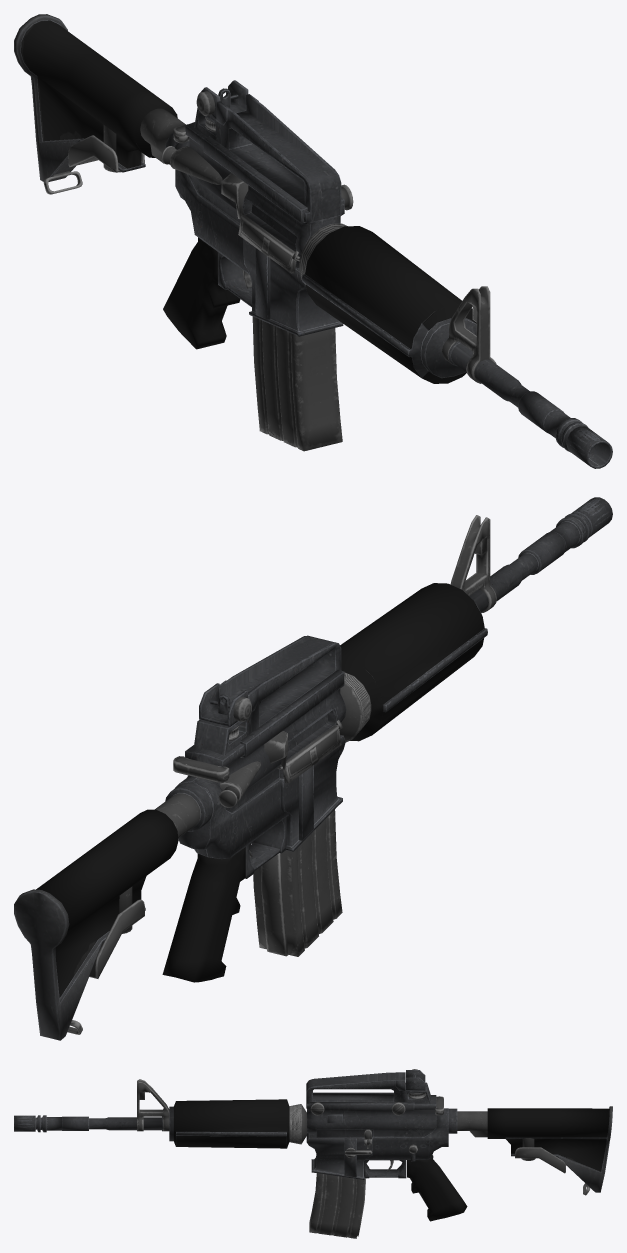
File: mp4_m4_free.glb
The picture shows the model from 3 angles, top to bottom: view 1: azimuth 30°, elevation 25°; view 2: azimuth 150°, elevation 25°; view 3: azimuth 270°, elevation 25°; orthographic projection. The views are drawn at different scales.
Parts seen in each view (by area): view 1: tzevyo_low, priklad_low.001, mag_low, derjat_low, ruchka_low, details_low, okolmag_low, corpuse_low, undercorp_low, pritzel_low, okoloruchk_low; view 2: priklad_low.001, tzevyo_low, mag_low, ruchka_low, derjat_low, undercorp_low, details_low, okolmag_low, corpuse_low, pritzel_low, okoloruchk_low, zatvor_low; view 3: tzevyo_low, priklad_low.001, corpuse_low, derjat_low, mag_low, ruchka_low, okolmag_low, undercorp_low, okoloruchk_low, details_low, pritzel_low.
Part boxes in pixels (x1,y1,x2,y2): tzevyo_low: [299, 223, 612, 468]; priklad_low.001: [14, 14, 185, 181]; mag_low: [252, 316, 342, 451]; derjat_low: [194, 80, 341, 222]; ruchka_low: [163, 237, 251, 349]; details_low: [43, 88, 353, 273]; okolmag_low: [243, 239, 343, 336]; corpuse_low: [185, 122, 344, 268]; undercorp_low: [174, 141, 249, 274]; pritzel_low: [442, 286, 496, 383]; okoloruchk_low: [203, 136, 344, 224]; priklad_low.001: [14, 783, 212, 1040]; tzevyo_low: [339, 497, 612, 742]; mag_low: [253, 810, 342, 956]; ruchka_low: [162, 817, 286, 982]; derjat_low: [193, 635, 341, 755]; undercorp_low: [174, 776, 288, 859]; details_low: [67, 694, 343, 1034]; okolmag_low: [279, 735, 345, 851]; corpuse_low: [185, 689, 346, 812]; pritzel_low: [450, 515, 496, 612]; okoloruchk_low: [240, 669, 344, 757]; zatvor_low: [173, 756, 229, 782]; tzevyo_low: [14, 1099, 306, 1148]; priklad_low.001: [448, 1106, 612, 1192]; corpuse_low: [307, 1095, 436, 1137]; derjat_low: [306, 1070, 430, 1108]; mag_low: [309, 1173, 366, 1238]; ruchka_low: [364, 1155, 467, 1221]; okolmag_low: [306, 1133, 372, 1179]; undercorp_low: [365, 1108, 448, 1159]; okoloruchk_low: [309, 1092, 414, 1111]; details_low: [310, 1069, 590, 1195]; pritzel_low: [137, 1079, 169, 1131].
Bounding box in the file's own units: 0.3857 × 1.3 × 4.41.
Materials: 1 (1 with a texture image).
